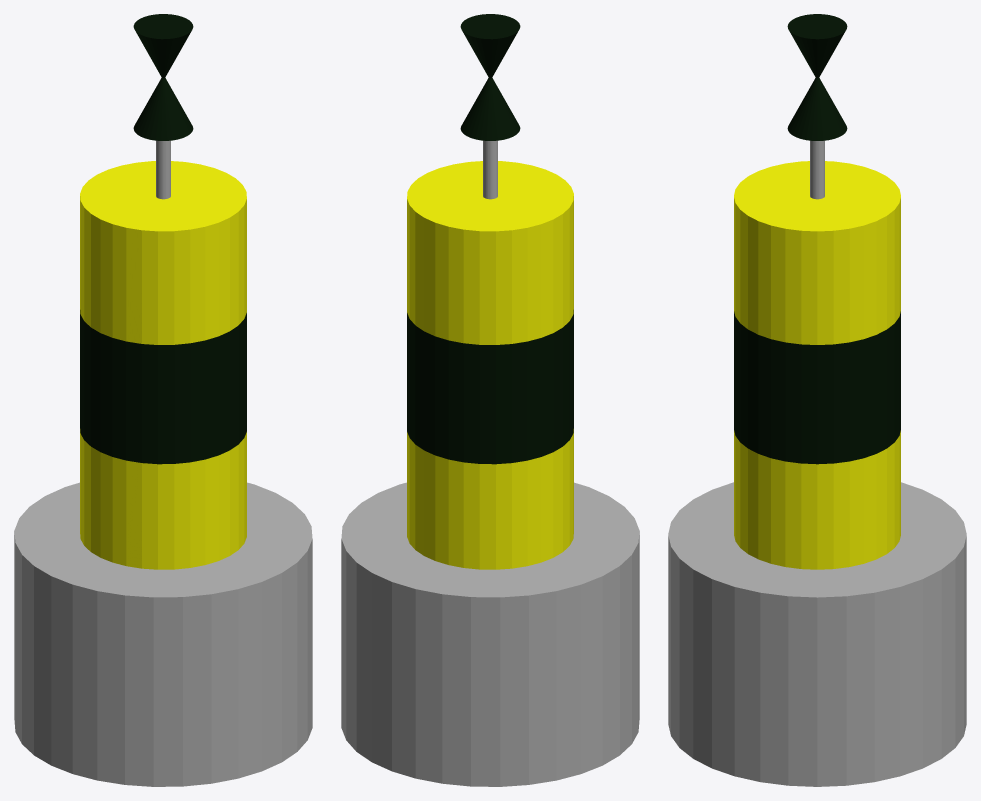
The model's file is Buoy-West.glb.
3 renders of one model, left to right at view 1: azimuth 30°, elevation 25°; view 2: azimuth 150°, elevation 25°; view 3: azimuth 270°, elevation 25°, orthographic.
Visible parts, largest first — view 1: Bouée, Cone 2, Cone 1, Axe; view 2: Bouée, Cone 2, Cone 1, Axe; view 3: Bouée, Cone 2, Cone 1, Axe.
Part boxes in pixels (x1,y1,x2,y2): Bouée: (14, 161, 312, 786); Cone 2: (133, 14, 193, 78); Cone 1: (133, 78, 193, 140); Axe: (156, 140, 170, 199); Bouée: (341, 161, 639, 786); Cone 2: (460, 14, 520, 78); Cone 1: (460, 78, 520, 140); Axe: (483, 140, 497, 199); Bouée: (668, 161, 966, 786); Cone 2: (787, 14, 847, 78); Cone 1: (787, 78, 847, 140); Axe: (810, 140, 824, 199).
Bounding box in the file's own units: 2 × 5.15 × 2.
